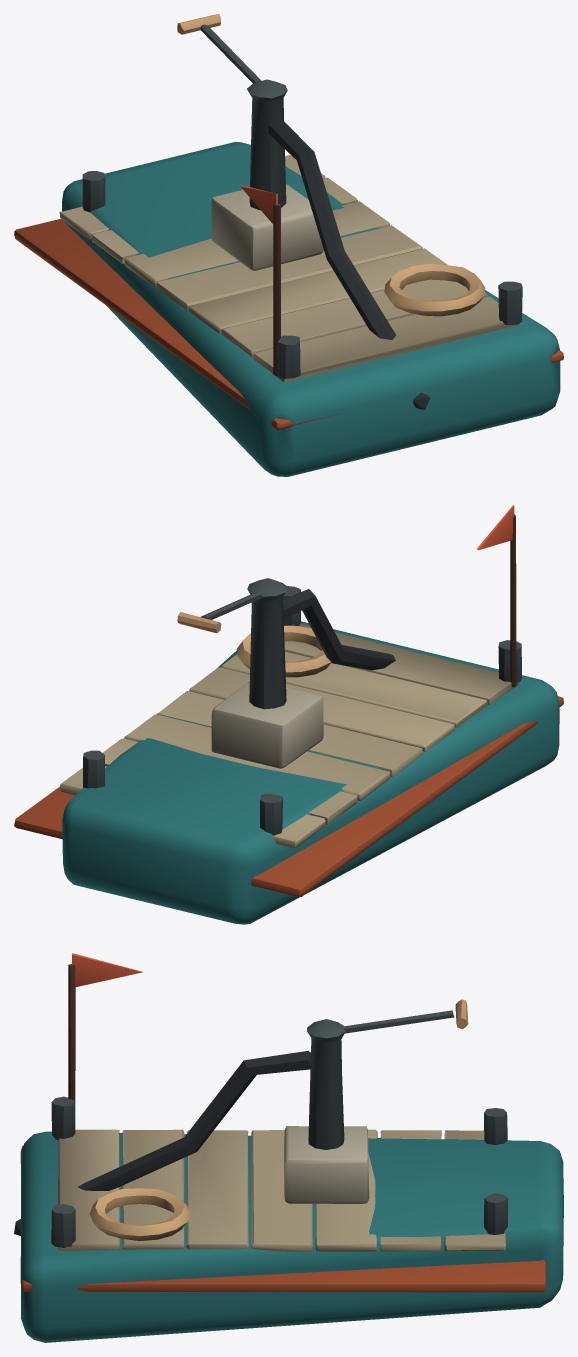
Rendered from barge.glb.
The picture shows the model from 3 angles, top to bottom: view 1: azimuth 30°, elevation 25°; view 2: azimuth 150°, elevation 25°; view 3: azimuth 270°, elevation 25°; orthographic projection.
Visible parts, largest first — view 1: Barge, Lever; view 2: Barge, Lever; view 3: Barge, Lever.
Part boxes in pixels (x1=…): Barge: x1=14, y1=79, x2=563, y2=476; Lever: x1=177, y1=14, x2=261, y2=83; Barge: x1=14, y1=505, x2=563, y2=924; Lever: x1=177, y1=591, x2=261, y2=633; Barge: x1=14, y1=953, x2=563, y2=1342; Lever: x1=341, y1=999, x2=468, y2=1033.
Bounding box in the file's own units: 2 × 1.77 × 3.25.
